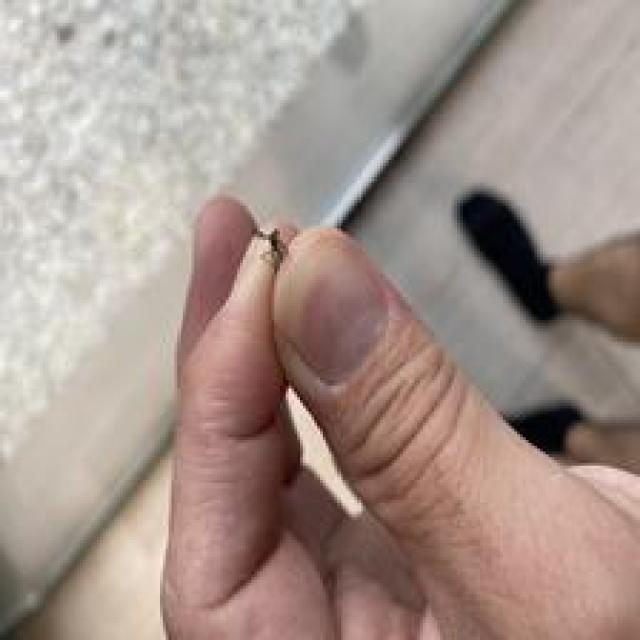Aedes albopictus: (252, 226, 288, 274)
